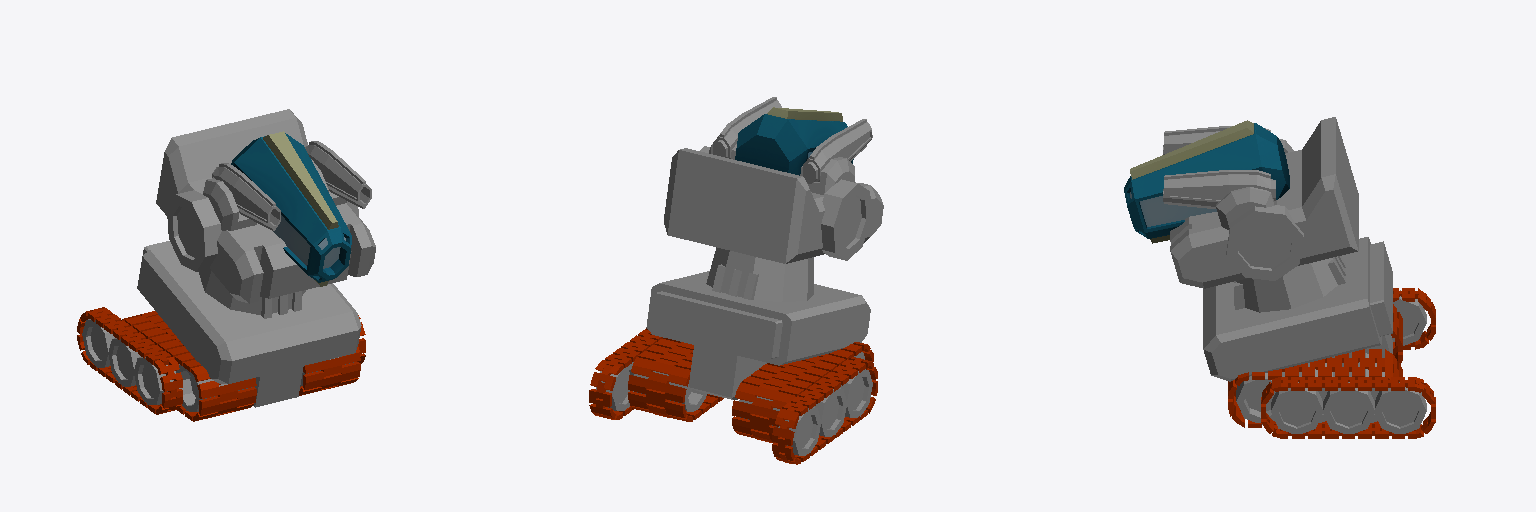
3 views of the same model, side by side, from view 1: azimuth 30°, elevation 25°; view 2: azimuth 150°, elevation 25°; view 3: azimuth 270°, elevation 25° (orthographic).
Visible parts, largest first — view 1: Object004, Object012, Box038, Box043, Object013, Box042, Object011; view 2: Object004, Box038, Box042, Box043, Object012, Object013, Box044, Object014, Object011; view 3: Object004, Object014, Box044, Object012, Box042, Object011, Object013, Box043.
Boxes of the visible parts, x1,y1,x2,y2 form: Object004: [137, 109, 375, 407]; Object012: [212, 141, 371, 230]; Box038: [121, 311, 256, 421]; Box043: [77, 307, 182, 414]; Object013: [82, 319, 175, 404]; Box042: [299, 347, 360, 395]; Object011: [176, 357, 353, 411]; Object004: [646, 107, 883, 399]; Box038: [732, 342, 873, 442]; Box042: [628, 338, 723, 421]; Box043: [772, 357, 877, 464]; Object012: [713, 97, 872, 183]; Object013: [778, 369, 872, 455]; Box044: [589, 328, 662, 419]; Object014: [596, 362, 635, 410]; Object011: [635, 352, 864, 426]; Object004: [1124, 117, 1392, 381]; Object014: [1271, 382, 1426, 433]; Box044: [1261, 377, 1435, 438]; Object012: [1163, 126, 1275, 208]; Box042: [1228, 349, 1402, 427]; Object011: [1236, 336, 1391, 424]; Object013: [1392, 290, 1426, 345]; Box043: [1393, 288, 1435, 349].
Bounding box in the file's own units: 139 × 177 × 187.
Materials: 4 (1 with a texture image).